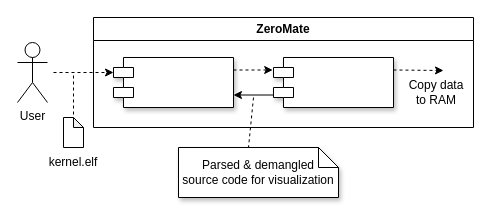
Some shapes in this 491 by 222 pixel diagram are drawn without their labels. The shapes that lost their labels are listed below. From the top down, each one's centre as x and y in pixels, then its label:
the point at 174,83: <<component>> GUI
the point at 334,83: <<component>> ELF Loader
